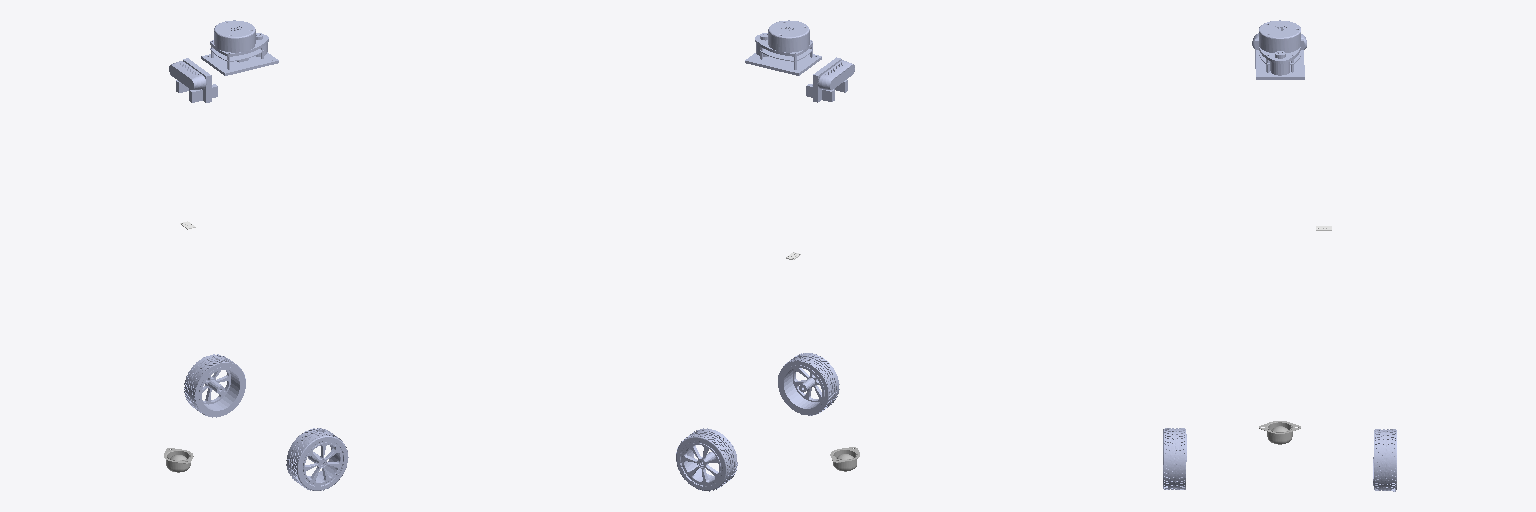
robot.urdf — thesis_robot_modeling:
<?xml version="1.0" encoding="utf-8"?>
<!-- This URDF was created by Xuan-Nghia Huynh ([email redacted])
     Commit Version: 1.4.2-27-gc3b3358  Build Version: 1.4.6891.25992
     For more information, please see http://wiki.ros.org/sw_urdf_exporter -->
<robot name="thesis_robot_modeling">
  
  <link name="base_footprint"/>


  <joint name="base_joint" type="fixed">
    <parent link="base_footprint"/>
    <child link="base_link"/>
    <origin xyz="0 0 0.1" rpy="0 0 -1.57"/>
  </joint>


  <link name="base_link">
    <inertial>
      <!--origin xyz="0.00058448 0.32986 -0.021877" rpy="0 0 0" /-->
      <origin xyz="0 0 0" rpy="0 0 0"/>
      <mass value="2.1405"/>
      <inertia
        ixx="0.0083821"
        ixy="1.9271E-07"
        ixz="-2.348E-06"
        iyy="0.00983"
        iyz="-1.5808E-07"
        izz="0.0092412" />
    </inertial>

    <visual>
      <origin xyz="0 0 0" rpy="0 0 0" />
      <geometry>
        <mesh filename="package://thesis_robot_modeling/meshes/base_link.STL" />
      </geometry>
      <material name="">
        <color rgba="0.79216 0.81961 0.5 1" />
      </material>
    </visual>

    <collision>
      <origin xyz="0 0 0" rpy="0 0 0" />
      <geometry>
        <mesh filename="package://thesis_robot_modeling/meshes/base_link.STL" />
      </geometry>
    </collision>
  </link>


  <joint name="left_wheel_joint" type="continuous">
    <origin xyz="-0.17221 0.071027 0.050506" rpy="0 -1.57 0" />
    <parent link="base_link" />
    <child link="left_wheel_link" />
    <axis xyz="0 0 1" />
  </joint>


  <link name="left_wheel_link">
    <inertial>
      <!--origin xyz="-8.4516E-06 -2.8895E-06 0.021476" rpy="0 0 0" /-->
      <origin xyz="0 0 0" />
      <mass value="0.14993" />
      <inertia
        ixx="0.000153"
        ixy="4.7056E-08"
        ixz="-3.2026E-10"
        iyy="0.00015294"
        iyz="1.7887E-09"
        izz="0.00027004" />
    </inertial>

    <visual>
      <origin xyz="0.0722 -0.0505 -0.1824" rpy="0 1.57 0" />
      <geometry>
        <mesh filename="package://thesis_robot_modeling/meshes/left_wheel_link.STL" />
      </geometry>
      <material name="">
        <color rgba="0.79216 0.81961 0.93333 1" />
      </material>
    </visual>

    <collision>
      <!--origin xyz="0 0 0" rpy="0 0 0" /-->
      <origin xyz="0.0722 -0.0505 -0.1824" rpy="0 1.57 0" />
      <geometry>
        <mesh filename="package://thesis_robot_modeling/meshes/left_wheel_link.STL" />
      </geometry>
    </collision>
  </link>


  <joint name="right_wheel_joint" type="continuous">
    <origin xyz="0.17221 0.071027 0.050506" rpy="0 -1.57 0" />
    <parent link="base_link" />
    <child link="right_wheel_link" />
    <axis xyz="0 0 1" />
  </joint>


  <link name="right_wheel_link">
    <inertial>
      <origin xyz="0 0 0"/>
      <mass value="0.14993" />
      <inertia
        ixx="0.000153"
        ixy="4.7056E-08"
        ixz="-3.2022E-10"
        iyy="0.00015294"
        iyz="1.7886E-09"
        izz="0.00027004" />
    </inertial>

    <visual>
      <origin xyz="0.0722 -0.0505 0.1824" rpy="0 1.57 0" />
      <geometry>
        <mesh filename="package://thesis_robot_modeling/meshes/right_wheel_link.STL" />
      </geometry>
      <material name="">
        <color rgba="0.79216 0.81961 0.93333 1" />
      </material>
    </visual>

    <collision>
      <origin xyz="0.0722 -0.0505 0.1824" rpy="0 1.57 0" />
      <geometry>
        <mesh filename="package://thesis_robot_modeling/meshes/right_wheel_link.STL" />
      </geometry>
    </collision>
  </link>


  <joint name="caster_wheel_joint" type="fixed">
    <origin xyz="0 -0.10103 0.02" rpy="-1.5708 0 1.5708" />
    <parent link="base_link" />
    <child link="caster_wheel_link" />
    <axis xyz="0 0 0" />
    <safety_controller k_velocity="0" />
  </joint>


  <link name="caster_wheel_link">
    <inertial>
      <origin xyz="-6.3255E-14 0.016165 -0.027781" rpy="0 0 0" />
      <mass value="0.014315" />
      <inertia
        ixx="1.9757E-06"
        ixy="1.3656E-22"
        ixz="-3.8887E-19"
        iyy="2.6804E-06"
        iyz="-2.5223E-22"
        izz="1.805E-06" />
    </inertial>

    <visual>
      <origin xyz="-0.1 0.02 0" rpy="3.14 -1.57 0" />
      <geometry>
        <mesh filename="package://thesis_robot_modeling/meshes/caster_wheel_link.STL" />
      </geometry>
      <material name="">
        <color rgba="0.75294 0.75294 0.75294 1" />
      </material>
    </visual>

    <collision>
      <origin xyz="-0.1 0.02 0" rpy="3.14 -1.57 0" />
      <geometry>
        <mesh filename="package://thesis_robot_modeling/meshes/caster_wheel_link.STL" />
      </geometry>
    </collision>
  </link>


  <joint name="lidar_joint" type="fixed">
    <origin xyz="0 0.01 0.785" rpy="0 0 1.57" />
    <parent link="base_link" />
    <child link="lidar_link" />
  </joint>


  <link name="lidar_link">
    <inertial>
      <origin xyz="0 0 0" rpy="0 0 0" />
      <mass value="0.21237" />
      <inertia
        ixx="0.00016144"
        ixy="2.1931E-07"
        ixz="-4.8964E-07"
        iyy="0.00020117"
        iyz="-2.029E-05"
        izz="0.00010111" />
    </inertial>

    <visual>
      <origin xyz="-0.01 0 -0.785" rpy="1.57 0 -1.57" />
      <geometry>
        <mesh filename="package://thesis_robot_modeling/meshes/lidar_link.STL" />
      </geometry>
      <material name="">
        <color rgba="0.79216 0.81961 0.93333 1" />
      </material>
    </visual>

    <collision>
      <origin xyz="-0.01 0 -0.785" rpy="1.57 0 -1.57" />
      <geometry>
        <mesh filename="package://thesis_robot_modeling/meshes/lidar_link.STL" />
      </geometry>
    </collision>
  </link>



  <joint name="realsense_joint" type="fixed">
    <origin xyz="0.001 -0.079 0.73355" rpy="0 0 1.57" />
    <parent link="base_link" />
    <child link="realsense_link" />
    <axis xyz="0 0 0" />
    <safety_controller k_velocity="0" />
  </joint>



  <link name="realsense_link">
    <inertial>
      <origin xyz="0 0 0" rpy="0 0 0" />
      <mass value="0.10349" />
      <inertia
        ixx="1.4187E-05"
        ixy="-1.975E-07"
        ixz="-4.2778E-07"
        iyy="4.9635E-05"
        iyz="-5.1774E-08"
        izz="5.6006E-05" />
    </inertial>

    <visual>
      <origin xyz="0.078 0 -0.735" rpy="1.57 0 -1.57" />
      <geometry>
        <mesh filename="package://thesis_robot_modeling/meshes/realsense_link.STL" />
      </geometry>
      <material name="">
        <color rgba="0.79216 0.81961 0.93333 1" />
      </material>
    </visual>

    <collision>
      <origin xyz="0.078 0 -0.735" rpy="1.57 0 -1.57" />
      <geometry>
        <mesh filename="package://thesis_robot_modeling/meshes/realsense_link.STL" />
      </geometry>
    </collision>
  </link>


  <joint name="imu_joint" type="fixed">
    <origin xyz="-0.071997 -0.039397 0.41526" rpy="0 0 1.57" />
    <parent link="base_link" />
    <child link="imu_link" />
  </joint>


  <link name="imu_link">
    <inertial>
      <origin xyz="0 0 0" rpy="0 0 0" />
      <mass value="0.00064128" />
      <inertia
        ixx="1.1862E-08"
        ixy="1.3728E-14"
        ixz="1.2576E-13"
        iyy="4.4714E-08"
        iyz="7.9871E-13"
        izz="3.3118E-08" />
    </inertial>
    
    <visual>
      <origin xyz="0.038 -0.0713 -0.415" rpy="1.57 0 -1.57" />
      <geometry>
        <mesh filename="package://thesis_robot_modeling/meshes/imu_link.STL" />
      </geometry>
      <material name="">
        <color rgba="1 1 1 1" />
      </material>
    </visual>

    <collision>
      <origin xyz="0 0 0" rpy="0 0 0" />
      <geometry>
        <mesh filename="package://thesis_robot_modeling/meshes/imu_link.STL" />
      </geometry>
    </collision>
  </link>

</robot>

--- Render facts (derived) ---
3 views of the same robot in one strip: view 1: azimuth 30°, elevation 25°; view 2: azimuth 150°, elevation 25°; view 3: azimuth 270°, elevation 25° (orthographic).
Model thesis_robot_modeling with 8 links and 7 joints (2 continuous, 5 fixed), rooted at base_footprint, posed every joint at zero.
Visible links, largest first — view 1: left_wheel_link, right_wheel_link, lidar_link, realsense_link, caster_wheel_link; view 2: left_wheel_link, right_wheel_link, lidar_link, realsense_link, caster_wheel_link; view 3: lidar_link, left_wheel_link, right_wheel_link, caster_wheel_link.
Boxes of the visible links, <box> form: left_wheel_link: <box>184,354,245,417</box>; right_wheel_link: <box>286,428,348,490</box>; lidar_link: <box>201,20,278,75</box>; realsense_link: <box>169,58,217,102</box>; caster_wheel_link: <box>164,448,193,472</box>; left_wheel_link: <box>676,428,737,491</box>; right_wheel_link: <box>778,353,839,415</box>; lidar_link: <box>745,20,821,75</box>; realsense_link: <box>806,57,854,102</box>; caster_wheel_link: <box>830,447,859,471</box>; lidar_link: <box>1256,20,1304,79</box>; left_wheel_link: <box>1373,429,1396,491</box>; right_wheel_link: <box>1163,428,1186,489</box>; caster_wheel_link: <box>1259,421,1300,444</box>.
Size in the robot's own frame: 0.2476 by 0.3836 by 0.8006 metres.
6 mesh visuals loaded from 7 distinct referenced files (6 binary STL); not drawn: 1 (reference not matched to a file when rendering).
